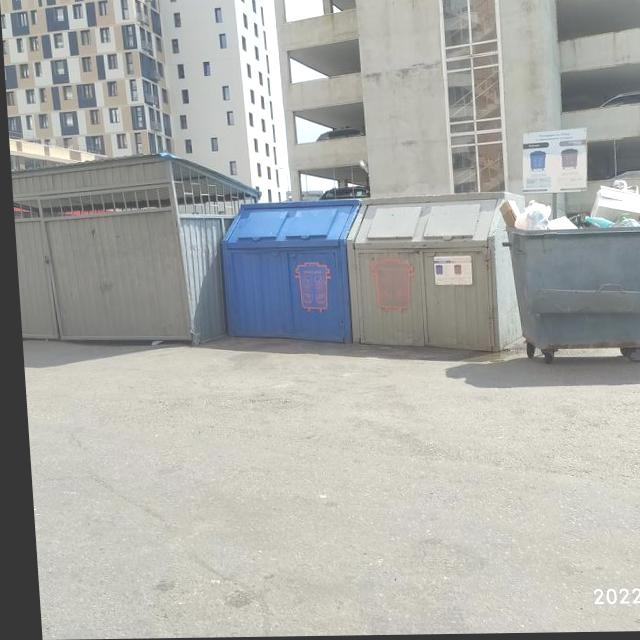Trash_Can_Full: (500, 200, 640, 352)
